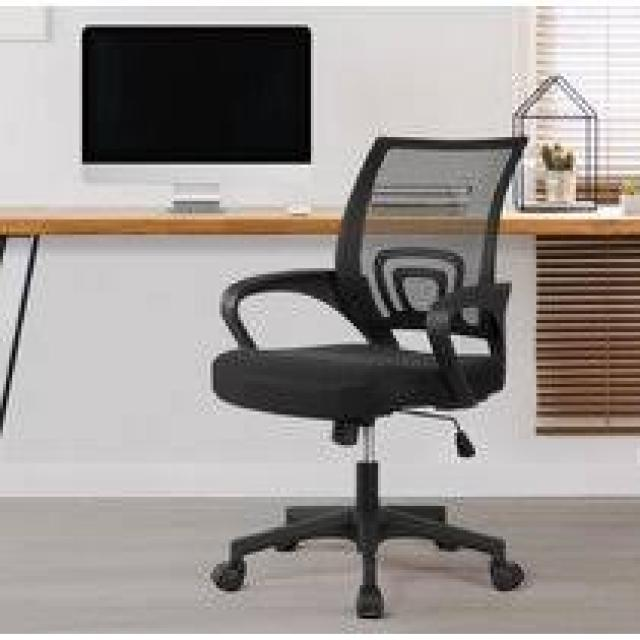chair: (137, 82, 576, 640)
